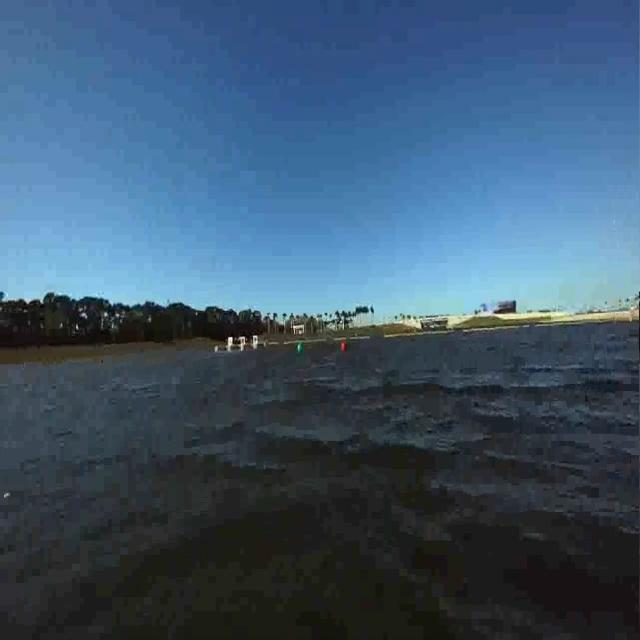green-buoy: (286, 340, 310, 353)
red-buoy: (337, 338, 353, 362)
